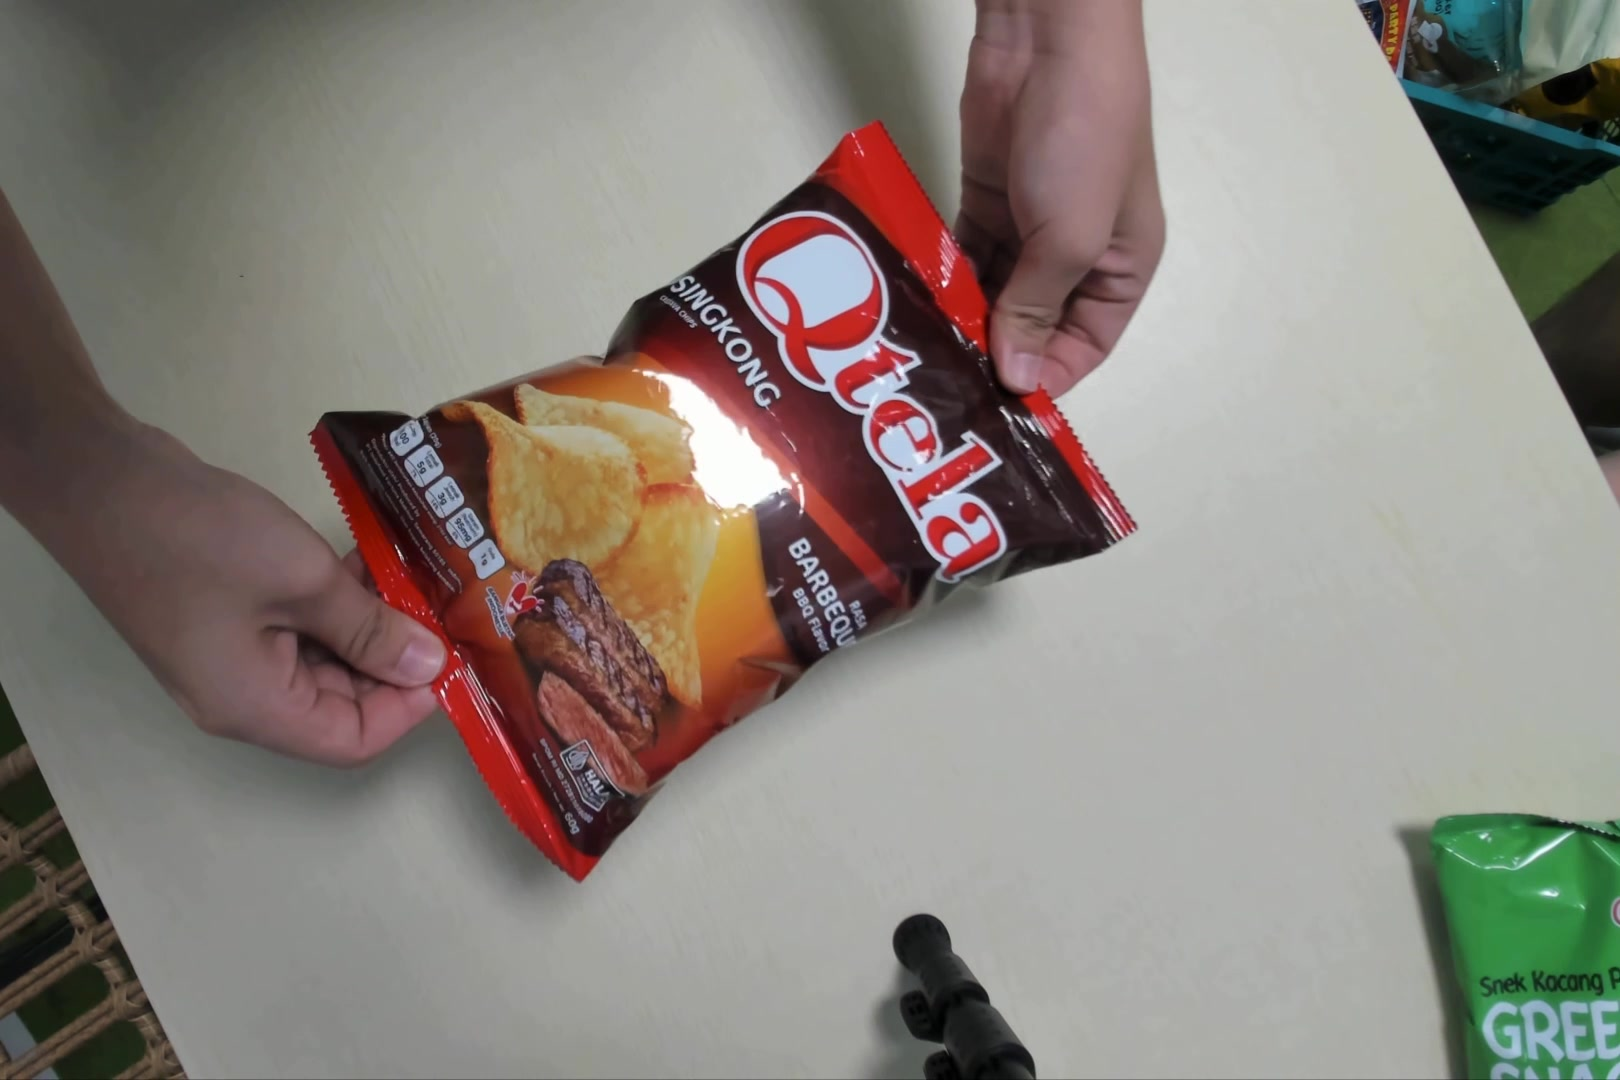PotatoChipsKeropok_0-99g_Halal_NonHealthy: (304, 122, 1129, 897)
